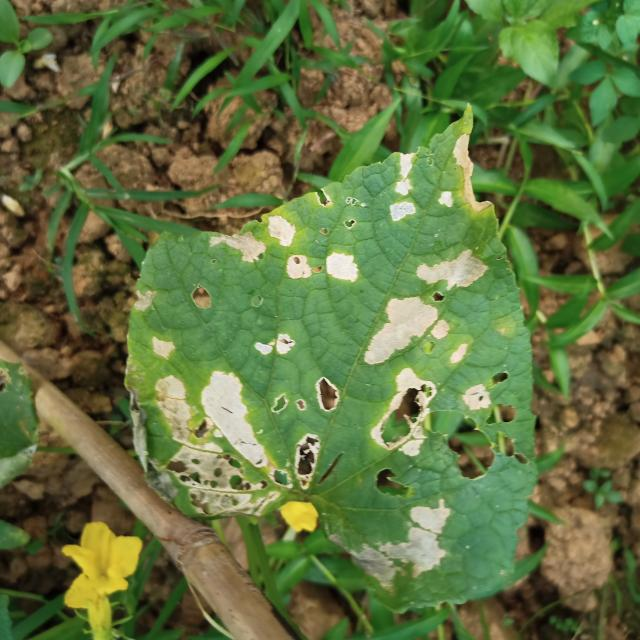disease_cucumber: (197, 133, 522, 370), (128, 264, 340, 527), (341, 356, 524, 592)
